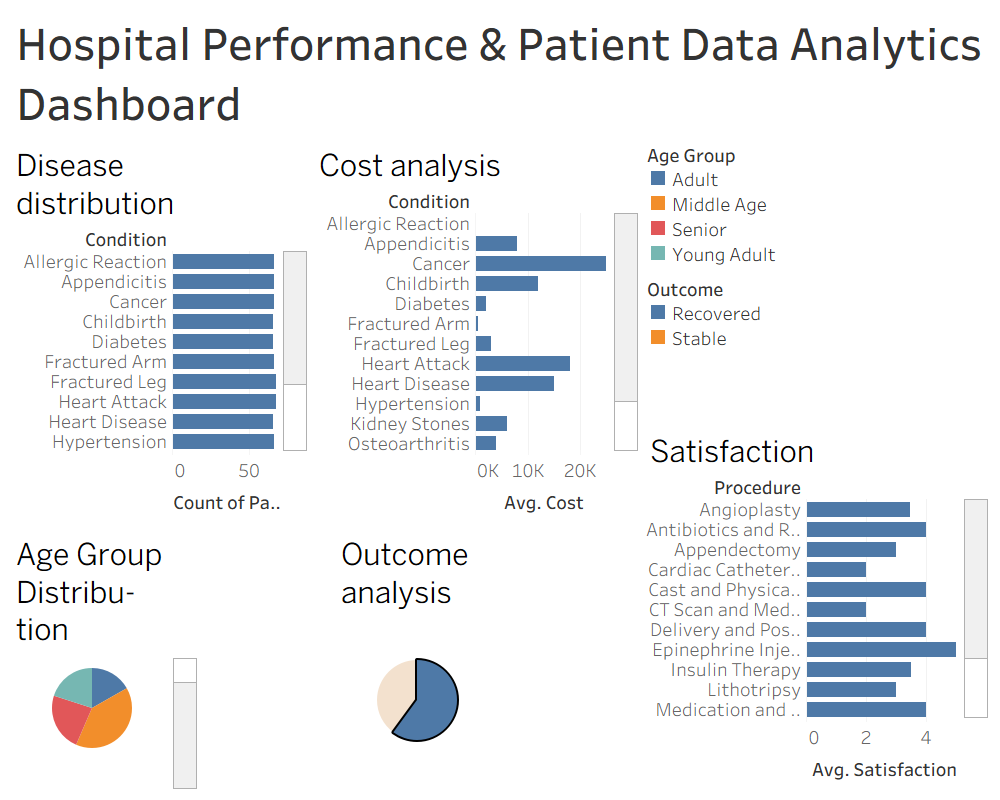

What the dashboard file says about the page in this screenshot:
{"tool":"tableau","page":{"name":"Dashboard 1","canvas":[1000,800],"ordinal":0},"visuals":[{"type":"title","box":[8,8,984,128]},{"type":"worksheet","title":"Sheet 1","mark":"Automatic","rows":["condition"],"cols":["patient_id"],"box":[8,136,303,389.1]},{"type":"worksheet","title":"Sheet 2","mark":"Automatic","rows":["condition"],"cols":["cost"],"box":[311,136,331,389.1]},{"type":"legend","title":"Sheet 3","param":"[federated.0u2evs30uim4og18o2o8d10czvh6].[none:age_group:nk]","box":[642,136,350,134]},{"type":"legend","title":"Sheet 4","param":"[federated.0u2evs30uim4og18o2o8d10czvh6].[none:outcome:nk]","box":[642,270,350,152]},{"type":"worksheet","title":"Sheet 5","mark":"Automatic","rows":["procedure"],"cols":["satisfaction"],"box":[642,422,350,370]},{"type":"worksheet","title":"Sheet 3","mark":"Pie","box":[8,525.1,325,266.9]},{"type":"worksheet","title":"Sheet 4","mark":"Pie","box":[333,525.1,309,266.9]}]}

Visuals, with their boxes in screenshot pixels (x1, y1, x2, y2), scaled from the page's 1000x800 canvas onto the 1000x800 screenshot:
title: (8, 8, 992, 136)
"Sheet 1" worksheet: (8, 136, 311, 525)
"Sheet 2" worksheet: (311, 136, 642, 525)
"Sheet 3" legend: (642, 136, 992, 270)
"Sheet 4" legend: (642, 270, 992, 422)
"Sheet 5" worksheet: (642, 422, 992, 792)
"Sheet 3" worksheet (Pie marks): (8, 525, 333, 792)
"Sheet 4" worksheet (Pie marks): (333, 525, 642, 792)
